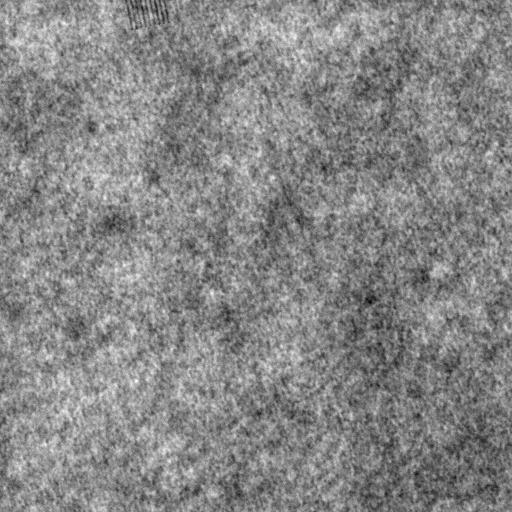DefectTypeB: (127, 1, 164, 21)
